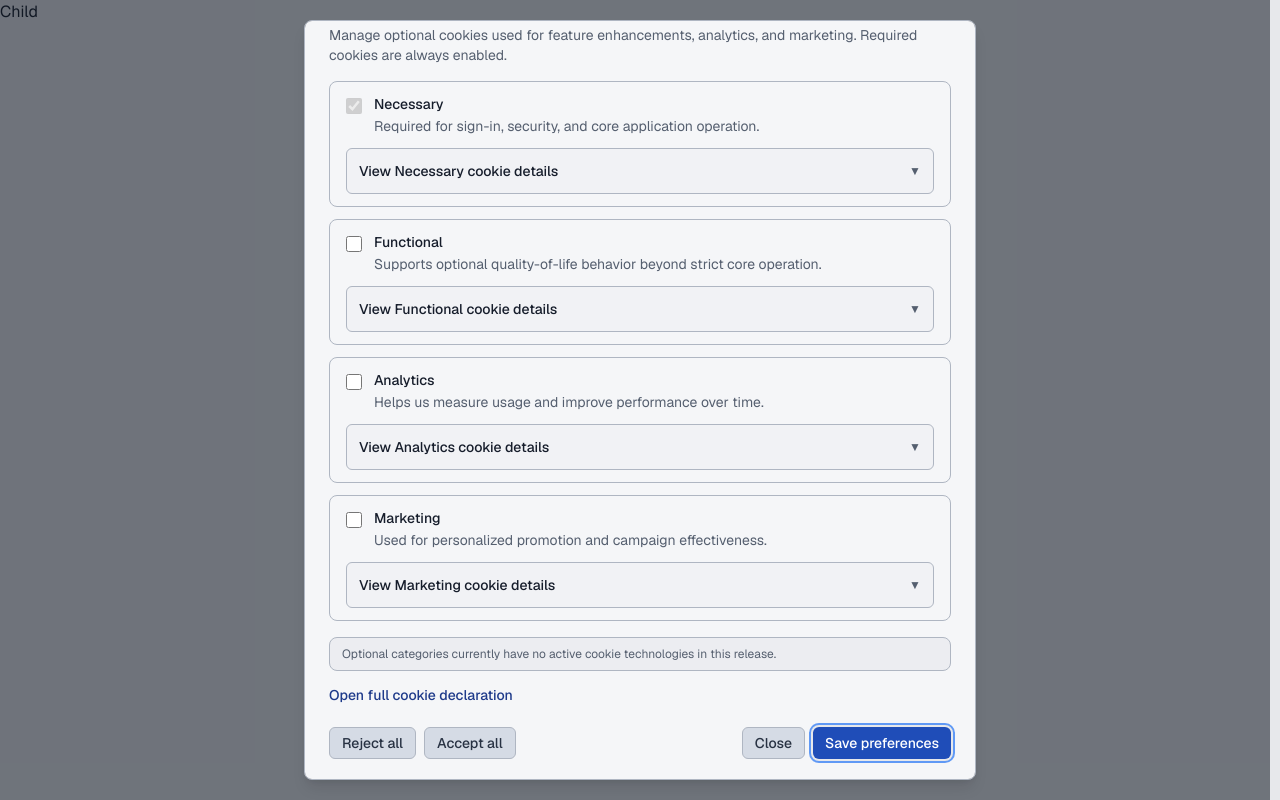
Test: ConsentProvider cross-tab sync › keeps modal close enabled after /api/consent 429 while save actions are locked
(page scrolled)
Click the button "Save preferences".
click(882, 743)  # box [813,727,951,759]
(page scrolled)
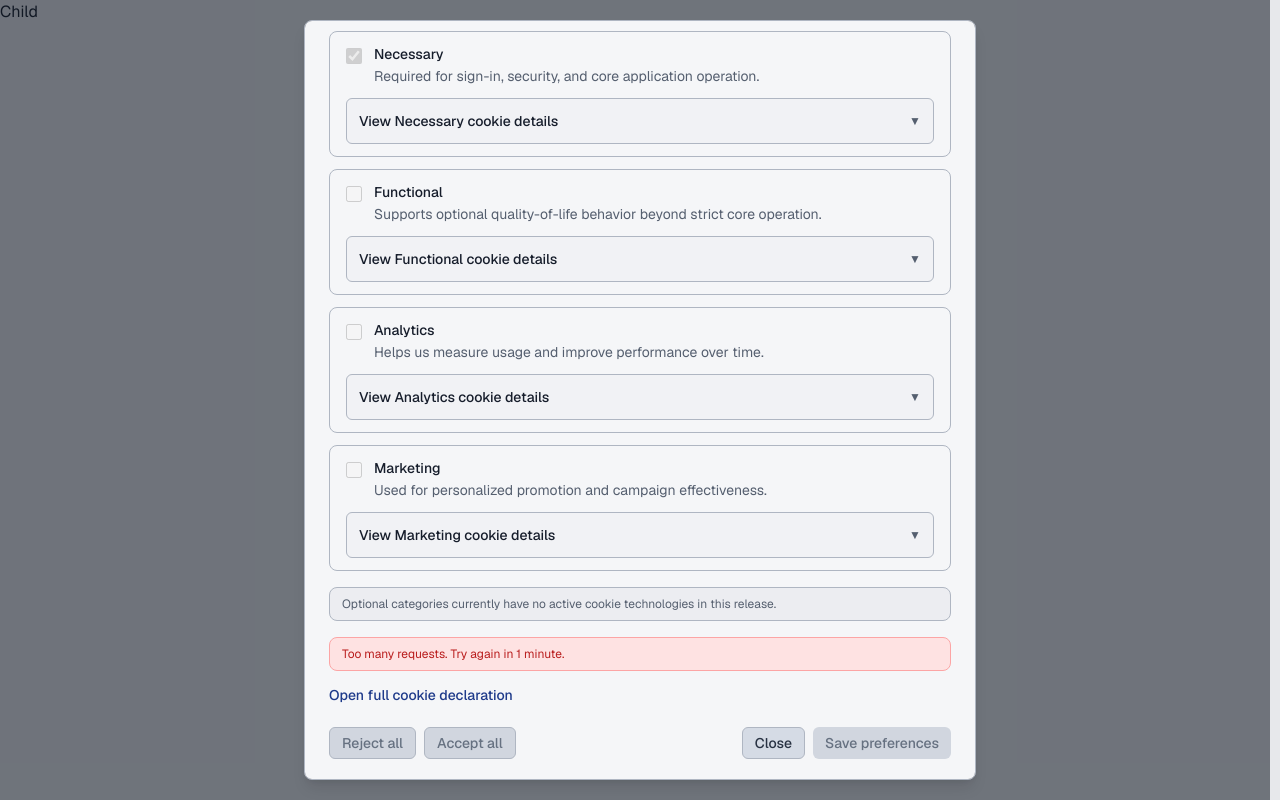
Expected: the button "Close" is enabled, [742,727,805,759]
Now the button "Save preferences" is disabled, box [813,727,951,759]
